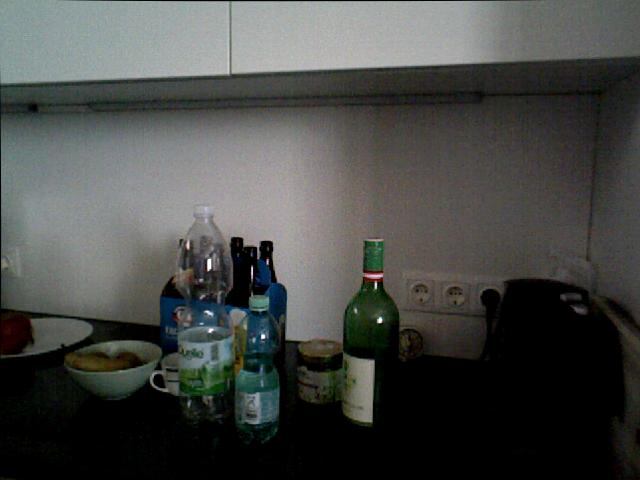bench: (341, 237, 400, 431), (175, 239, 235, 426), (233, 294, 280, 444), (181, 203, 233, 301), (159, 238, 193, 355), (225, 236, 251, 309), (259, 239, 278, 279)
bicycle: (0, 312, 33, 354)
bird: (63, 339, 162, 400)
giraffe: (398, 322, 431, 363)
handbag: (149, 351, 180, 396)
motorcycle: (57, 346, 137, 373)
